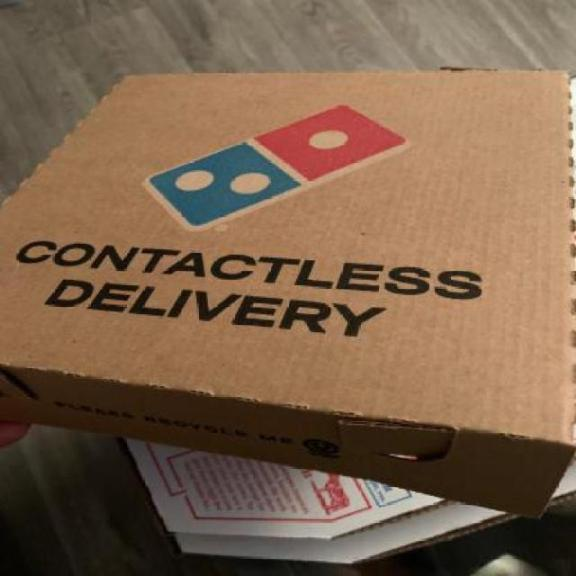Kertas: (0, 68, 572, 514)
